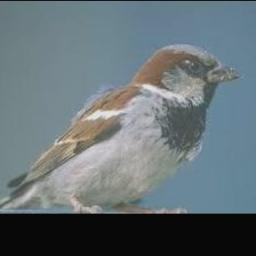Sparrow: (0, 43, 243, 213)
